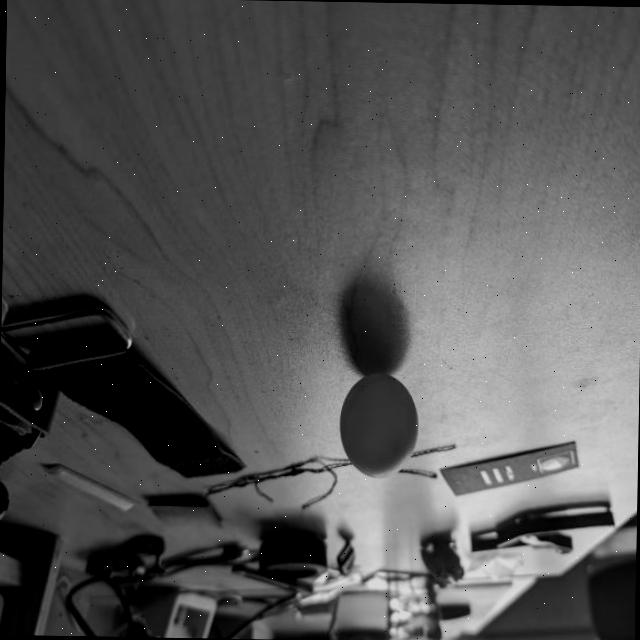ping-pong-ball: (337, 370, 419, 479)
